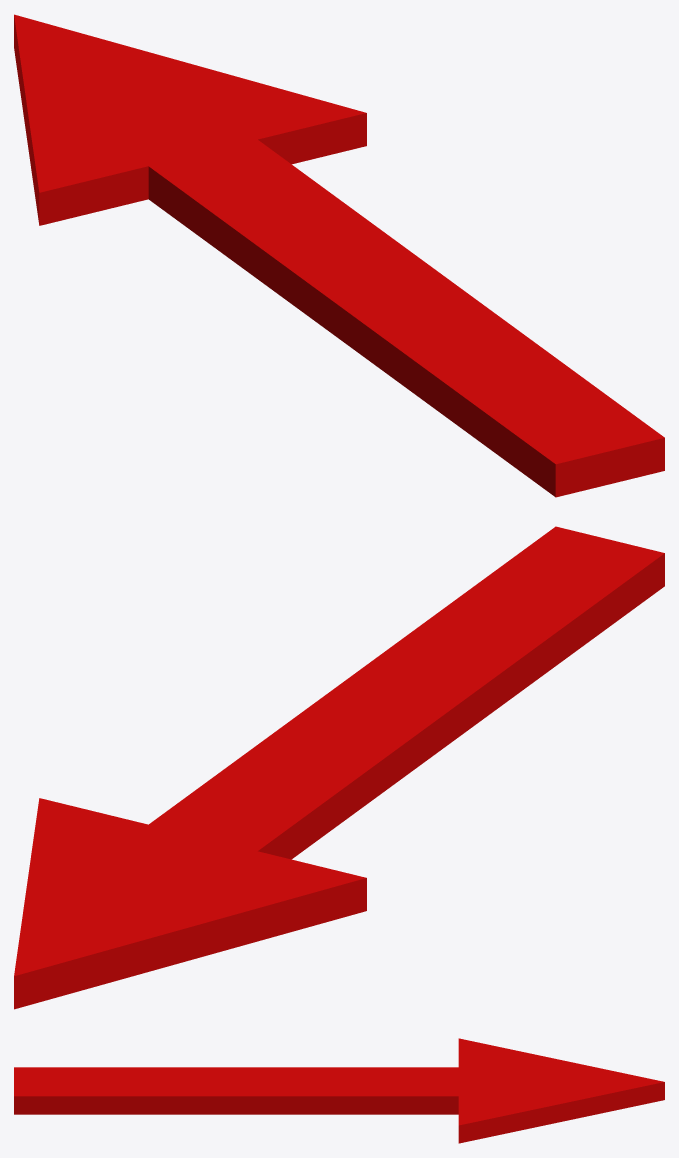
3 renders of one model, top to bottom at view 1: azimuth 30°, elevation 25°; view 2: azimuth 150°, elevation 25°; view 3: azimuth 270°, elevation 25°, orthographic. The views are drawn at different scales.
Parts seen in each view (by area): view 1: Box003; view 2: Box003; view 3: Box003.
Boxes of the visible parts, x1,y1,x2,y2 form: Box003: (14,14,664,497); Box003: (14,526,664,1009); Box003: (14,1038,664,1143).
Size of the model in its own units: 1000 by 96.71 by 3154.
